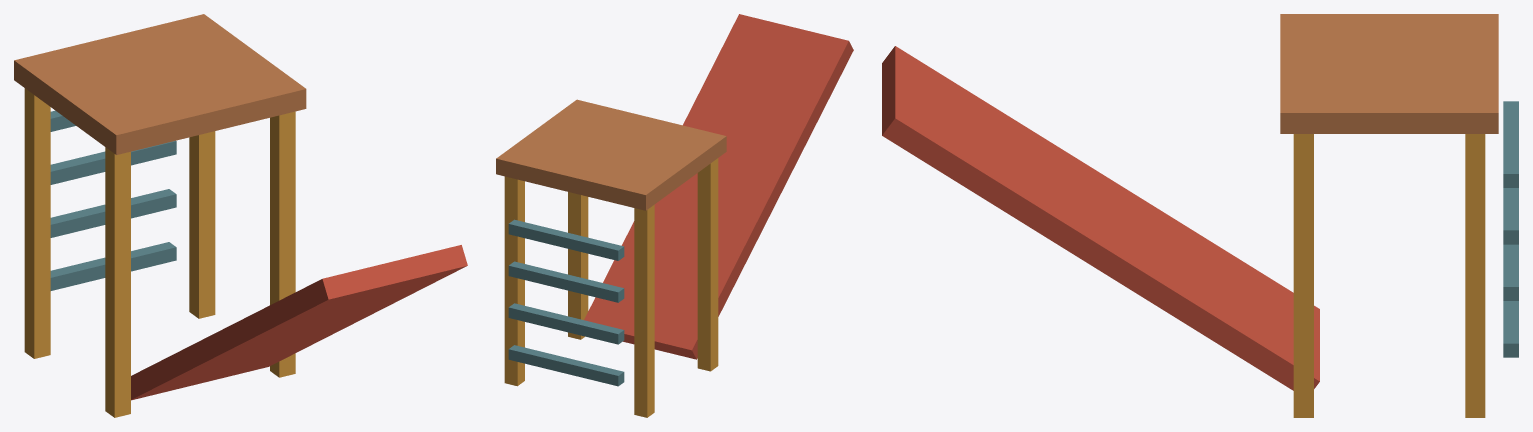
Rendered from slide.glb.
3 renders of one model, left to right at view 1: azimuth 30°, elevation 25°; view 2: azimuth 150°, elevation 25°; view 3: azimuth 270°, elevation 25°, orthographic. The views are drawn at different scales.
Parts seen in each view (by area): view 1: _MeshInstance3D_448, _MeshInstance3D_449, _MeshInstance3D_444, _MeshInstance3D_445, _MeshInstance3D_447, _MeshInstance3D_446, _MeshInstance3D_450, _MeshInstance3D_451, _MeshInstance3D_452; view 2: _MeshInstance3D_449, _MeshInstance3D_448, _MeshInstance3D_445, _MeshInstance3D_444, _MeshInstance3D_446, _MeshInstance3D_447, _MeshInstance3D_451, _MeshInstance3D_453, _MeshInstance3D_450, _MeshInstance3D_452; view 3: _MeshInstance3D_449, _MeshInstance3D_448, _MeshInstance3D_446, _MeshInstance3D_447, _MeshInstance3D_453, _MeshInstance3D_450, _MeshInstance3D_451, _MeshInstance3D_452.
Boxes of the visible parts, box(x1,y1,x2,y2) form: _MeshInstance3D_448: box(14, 14, 306, 154); _MeshInstance3D_449: box(131, 245, 467, 400); _MeshInstance3D_444: box(24, 88, 50, 358); _MeshInstance3D_445: box(105, 147, 130, 417); _MeshInstance3D_447: box(270, 111, 295, 377); _MeshInstance3D_446: box(189, 131, 215, 318); _MeshInstance3D_450: box(50, 242, 176, 290); _MeshInstance3D_451: box(50, 189, 176, 237); _MeshInstance3D_452: box(50, 140, 176, 184); _MeshInstance3D_449: box(584, 14, 853, 359); _MeshInstance3D_448: box(496, 99, 726, 210); _MeshInstance3D_445: box(697, 158, 718, 371); _MeshInstance3D_444: box(634, 204, 654, 417); _MeshInstance3D_446: box(504, 176, 524, 386); _MeshInstance3D_447: box(568, 192, 588, 339); _MeshInstance3D_451: box(508, 303, 624, 344); _MeshInstance3D_453: box(508, 219, 624, 260); _MeshInstance3D_450: box(508, 345, 624, 386); _MeshInstance3D_452: box(508, 261, 624, 302); _MeshInstance3D_449: box(882, 46, 1319, 390); _MeshInstance3D_448: box(1280, 14, 1498, 133); _MeshInstance3D_446: box(1465, 134, 1485, 417); _MeshInstance3D_447: box(1293, 134, 1313, 417); _MeshInstance3D_453: box(1503, 101, 1518, 187); _MeshInstance3D_450: box(1503, 301, 1518, 357); _MeshInstance3D_451: box(1503, 244, 1518, 300); _MeshInstance3D_452: box(1503, 188, 1518, 244).
Size of the model in its own units: 1.5 by 2.17 by 4.08.
